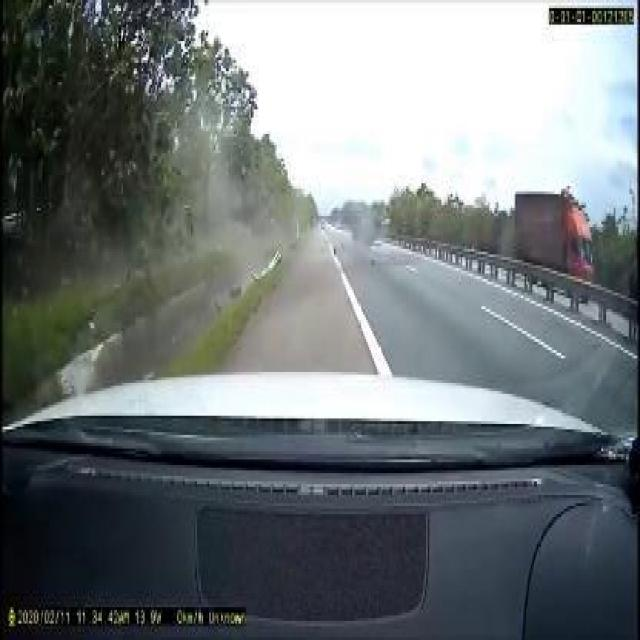accident: (349, 193, 389, 250)
